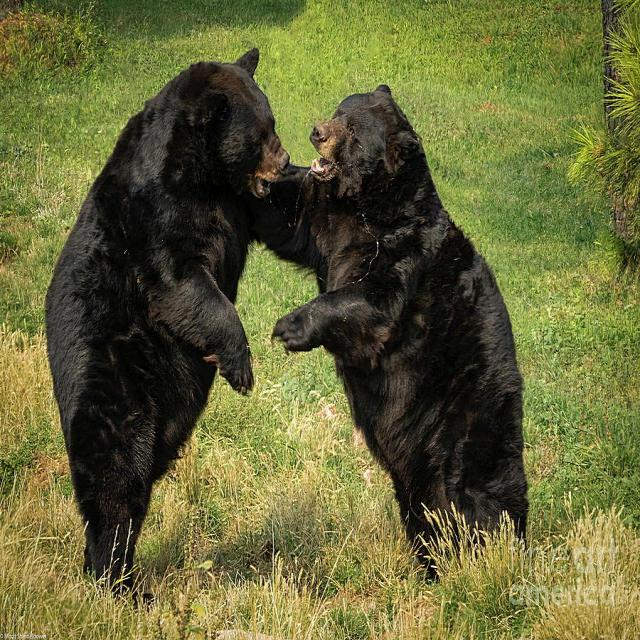Bear: (44, 50, 309, 582), (274, 86, 530, 582)
